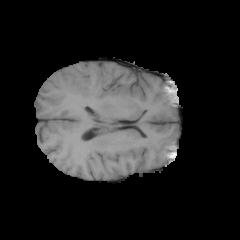glioma: (63, 66, 106, 108)
